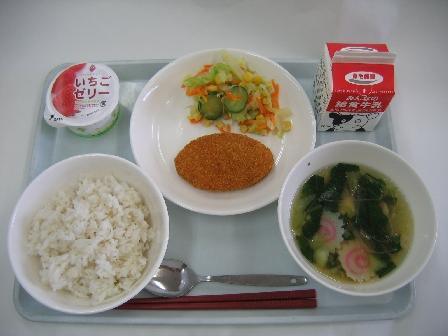Cup desserts: (33, 62, 125, 144)
Milk: (304, 37, 409, 138)
Rice: (12, 165, 168, 311)
Salad: (175, 54, 302, 138)
Soups: (286, 149, 435, 293)
cutlet: (175, 127, 276, 200)
